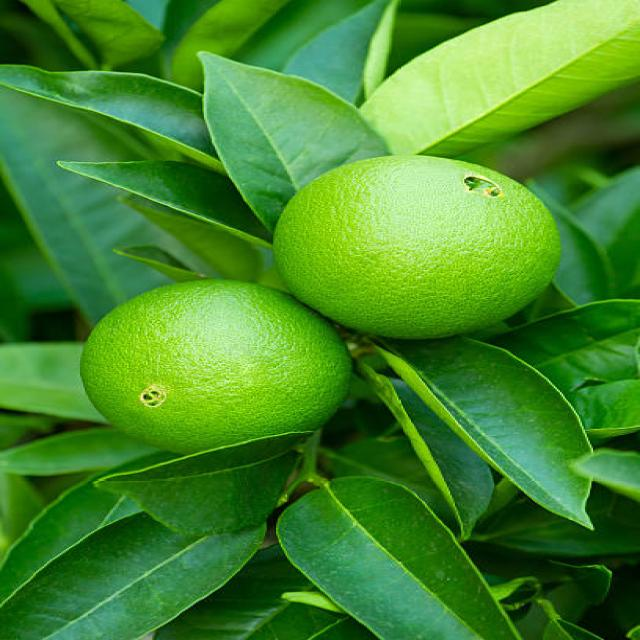Unripe: (275, 152, 558, 339), (79, 276, 349, 453)
